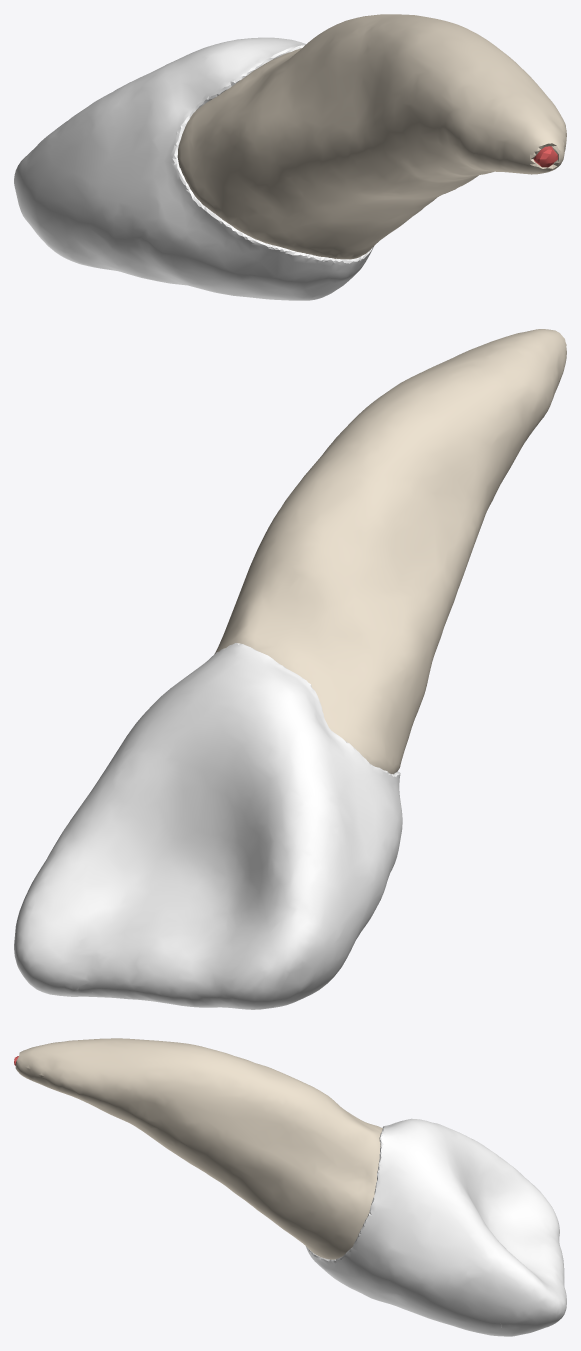
File: 乳牙上颌切牙.fbx
3 renders of one model, top to bottom at view 1: azimuth 30°, elevation 25°; view 2: azimuth 150°, elevation 25°; view 3: azimuth 270°, elevation 25°, orthographic. The views are drawn at different scales.
Parts seen in each view (by area): view 1: texture_B, texture_W, texture_S; view 2: texture_W, texture_B; view 3: texture_B, texture_W.
Part boxes in pixels (x1=…): texture_B: x1=177, y1=14, x2=566, y2=259; texture_W: x1=14, y1=37, x2=373, y2=300; texture_S: x1=533, y1=146, x2=558, y2=167; texture_W: x1=14, y1=643, x2=402, y2=1009; texture_B: x1=214, y1=329, x2=566, y2=774; texture_B: x1=15, y1=1038, x2=382, y2=1259; texture_W: x1=305, y1=1118, x2=566, y2=1336.
Size of the model in its own units: 11.06 by 15.05 by 28.15.
Materials: 3 (3 with a texture image).
